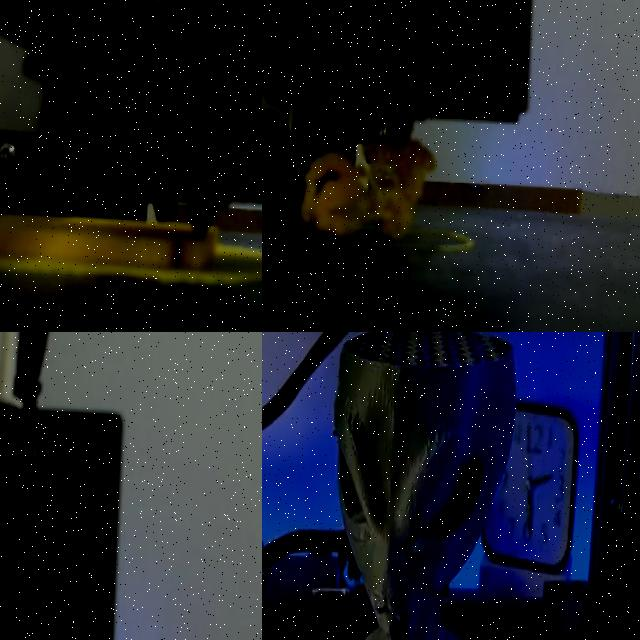spaghetti: (300, 134, 434, 237)
